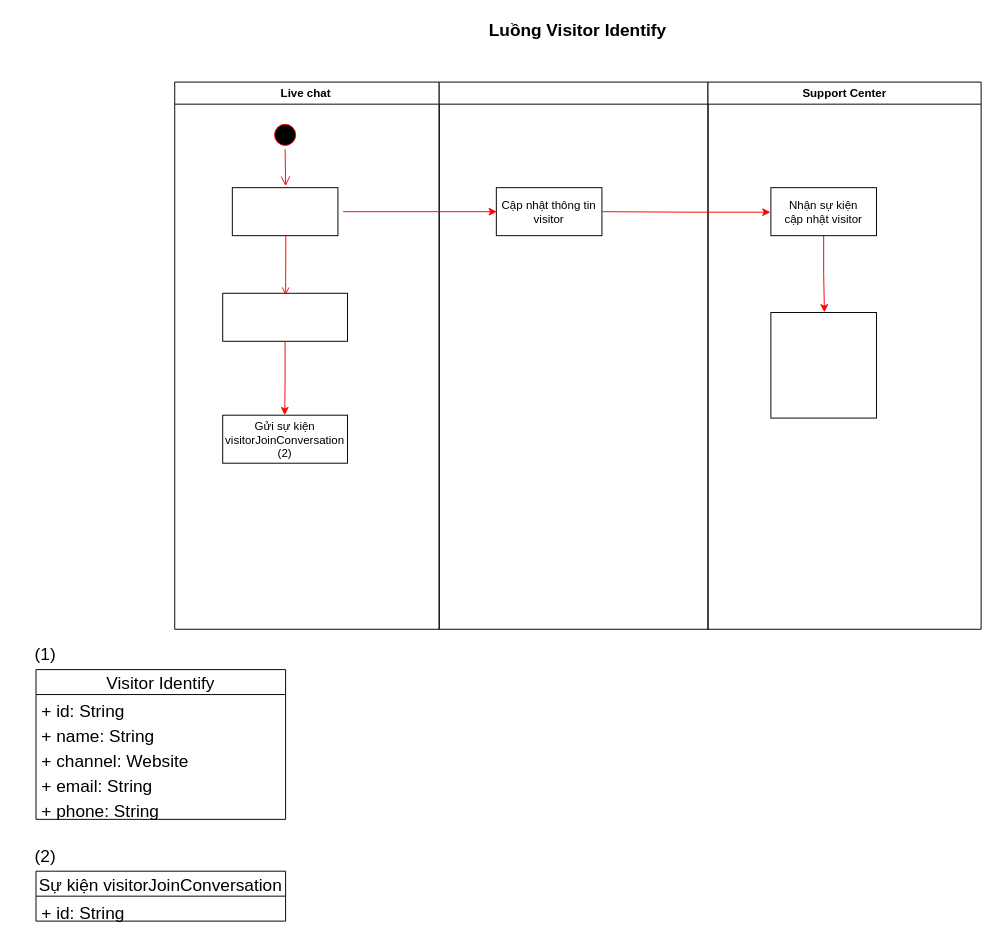
The diagram is 997 pixels wide and 940 high, and some of its shapes have lost their labels. The box of each missing label's shape, as (x1, y1, x2, y2) in pixels:
Chat API: (438, 81, 708, 629)
Chuyển về trang /chat-main: (222, 292, 348, 341)
Gửi thông tin visitor identify (1): (231, 187, 338, 236)
Xử lý danh sách visitor Xóa nếu tồn tại Thêm mới vào đầu danh sách: (770, 312, 876, 418)
